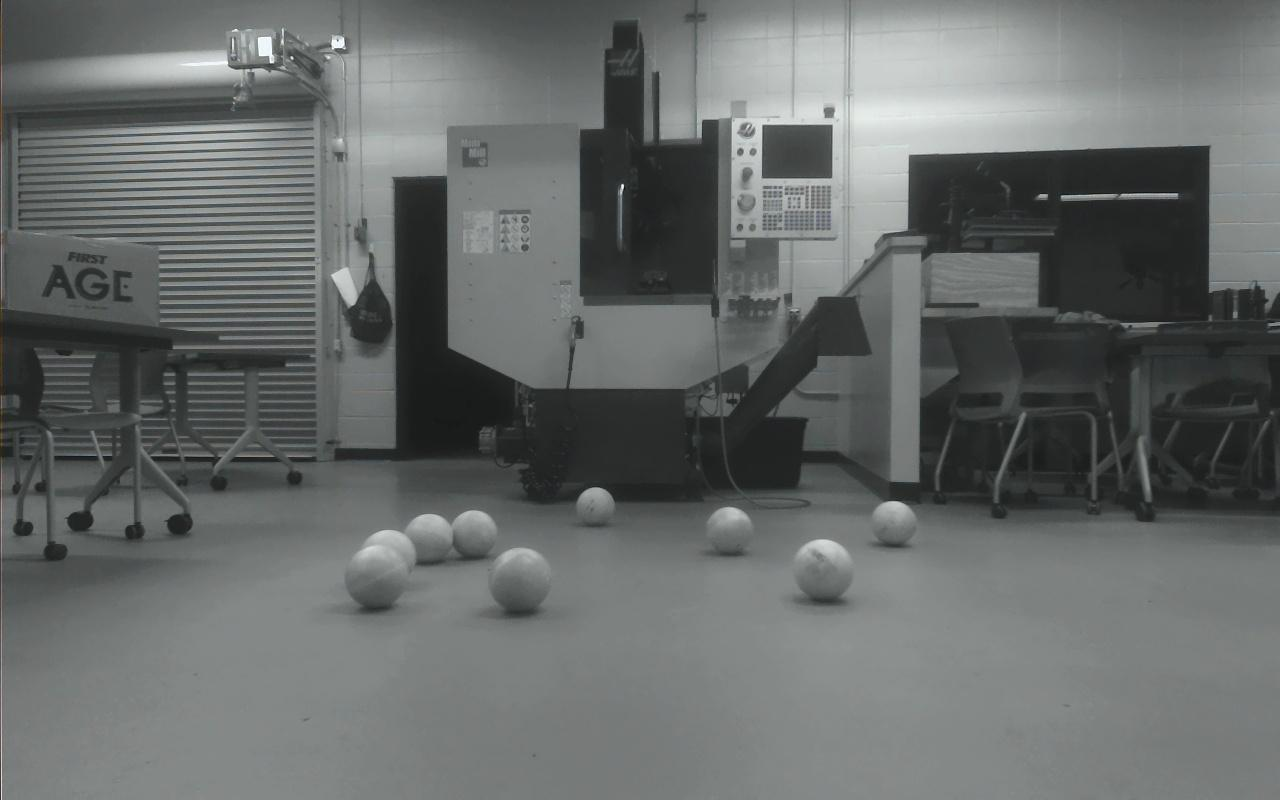Fuel: (488, 546, 552, 613), (344, 544, 408, 609), (792, 538, 854, 601), (360, 529, 417, 580), (404, 513, 454, 563), (449, 510, 498, 558), (705, 506, 753, 554), (870, 500, 916, 546), (576, 487, 614, 526)
